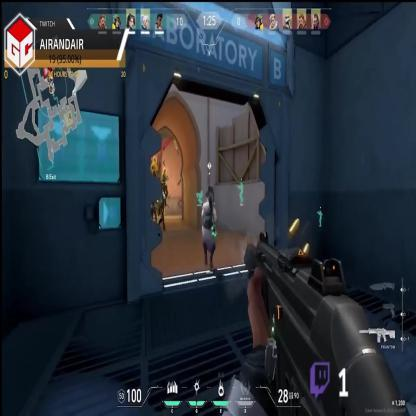enemy: (157, 189, 166, 231), (149, 190, 158, 223), (150, 156, 158, 184), (161, 168, 168, 194)
enemy_head: (151, 190, 156, 198), (152, 156, 156, 161), (162, 168, 166, 173), (162, 192, 164, 199)
